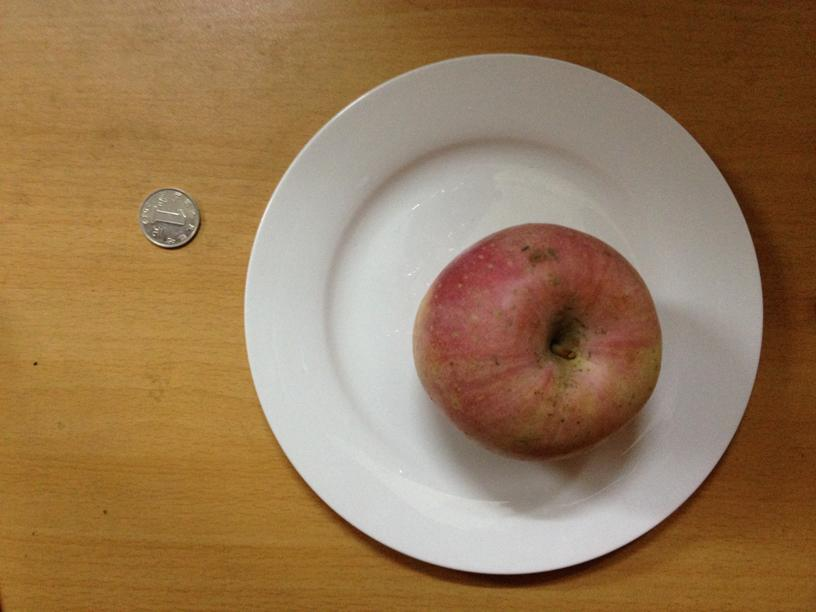apple: (414, 222, 663, 461)
coin: (140, 187, 201, 248)
